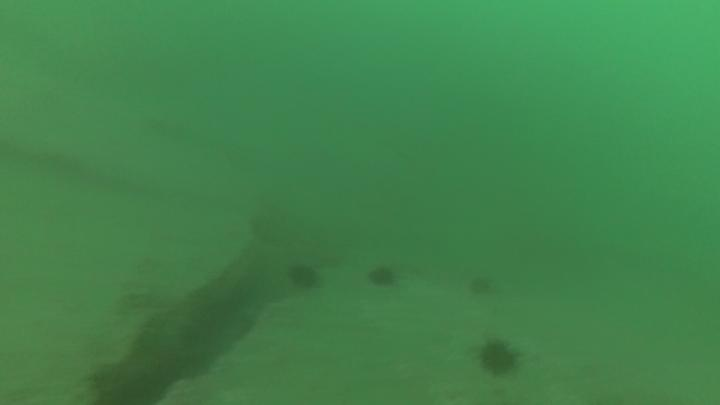echinus: (475, 336, 522, 380), (286, 260, 322, 294), (366, 263, 400, 291), (465, 273, 494, 299)
